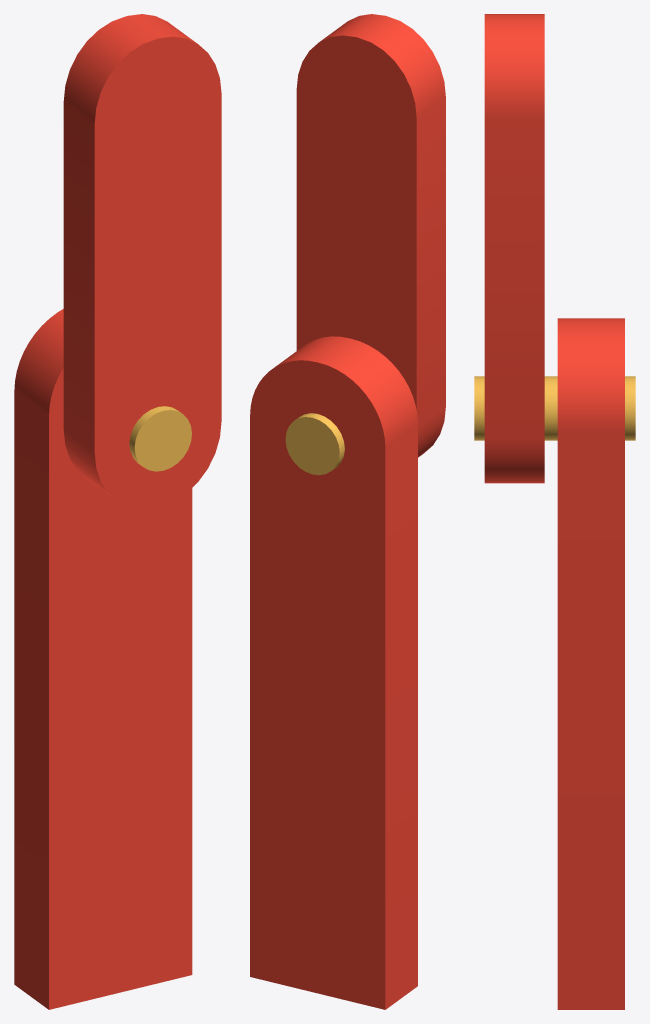
File: Saw Stand B.fbx
3 renders of one model, left to right at view 1: azimuth 30°, elevation 25°; view 2: azimuth 150°, elevation 25°; view 3: azimuth 270°, elevation 25°, orthographic. The views are drawn at different scales.
Parts seen in each view (by area): view 1: Saw Stand B, Saw Stand B.002, Saw Stand B.001; view 2: Saw Stand B, Saw Stand B.002, Saw Stand B.001; view 3: Saw Stand B, Saw Stand B.002, Saw Stand B.001.
Boxes of the visible parts, x1,y1,x2,y2 form: Saw Stand B: (14,309,192,1009); Saw Stand B.002: (63,14,221,508); Saw Stand B.001: (129,406,191,471); Saw Stand B: (250,336,417,1009); Saw Stand B.002: (296,14,445,457); Saw Stand B.001: (285,413,344,475); Saw Stand B: (557,318,624,1009); Saw Stand B.002: (484,14,544,483); Saw Stand B.001: (474,376,635,440).
Bounding box in the file's own units: 47.85 × 313 × 47.93.
